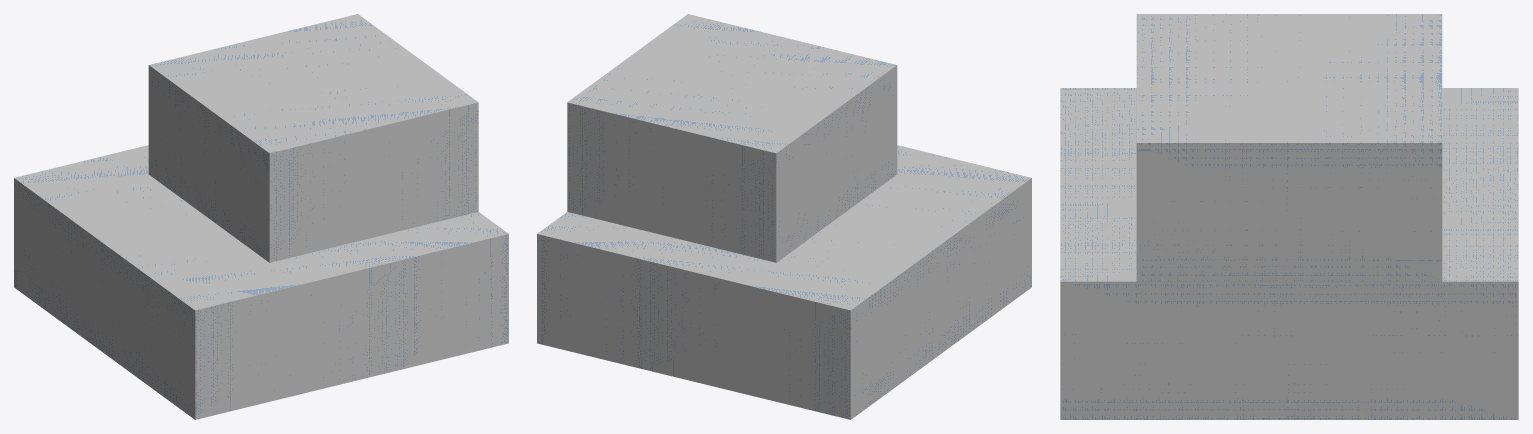
File: stone-03.fbx
3 renders of one model, left to right at view 1: azimuth 30°, elevation 25°; view 2: azimuth 150°, elevation 25°; view 3: azimuth 270°, elevation 25°, orthographic. The views are drawn at different scales.
Visible parts, largest first — view 1: generated; view 2: generated; view 3: generated.
Boxes of the visible parts, x1,y1,x2,y2 form: generated: [14, 14, 508, 419]; generated: [537, 14, 1031, 419]; generated: [1060, 14, 1518, 419].
Size of the model in its own units: 30 by 20 by 30.
1 material, 1 textured.
